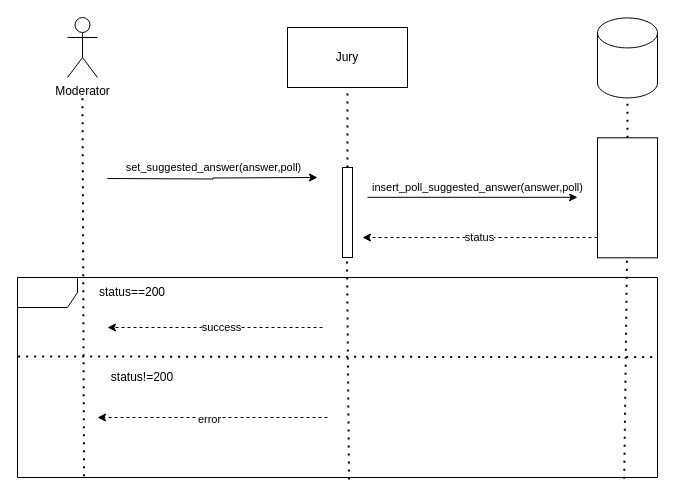
The diagram is 676 pixels wide and 499 high, and some of its shapes have lost their labels. Here are the shapes that lost their labels. From the top down, the box of each, then its label:
(596, 17, 658, 98): Database
(16, 276, 658, 478): alt
